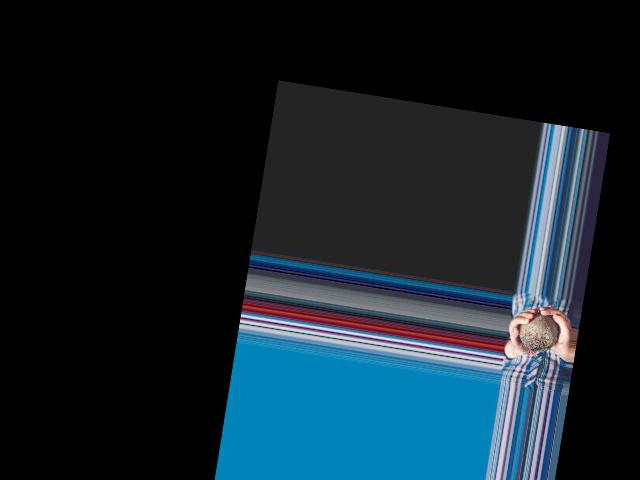beet: (516, 311, 561, 360)
